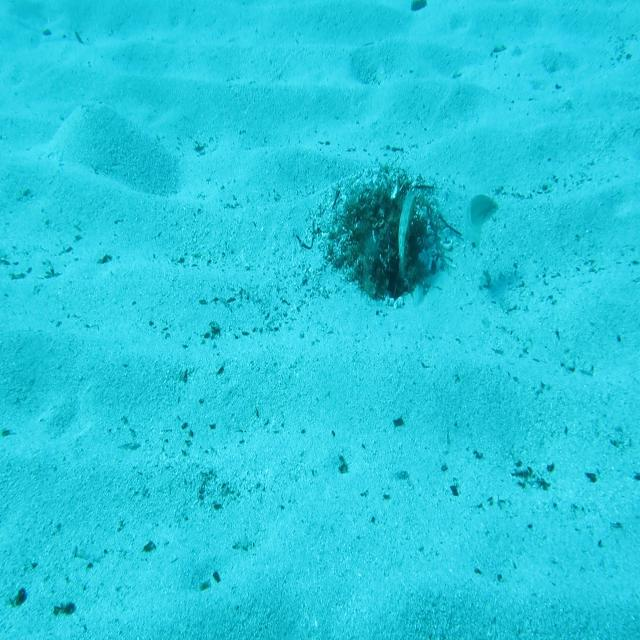ROLL: (394, 184, 421, 283)
female: (458, 191, 499, 255)
nest: (321, 177, 443, 314)
